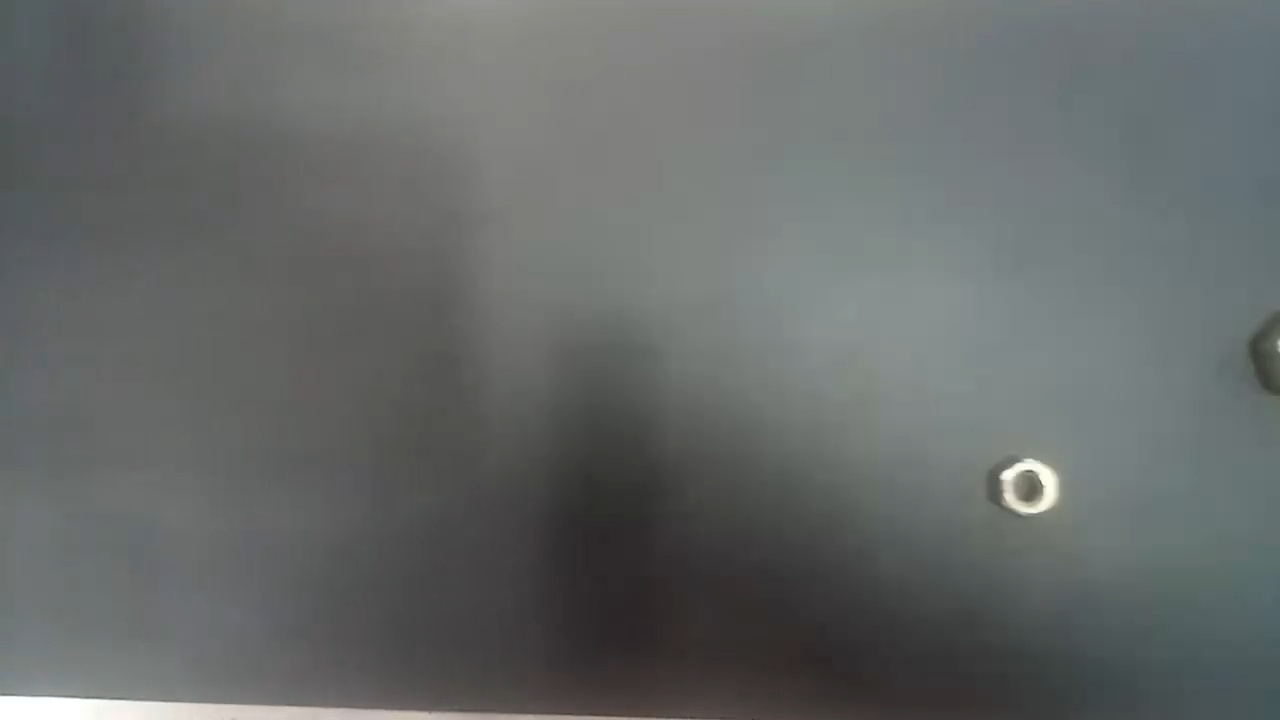Bolt: (993, 450, 1064, 523)
